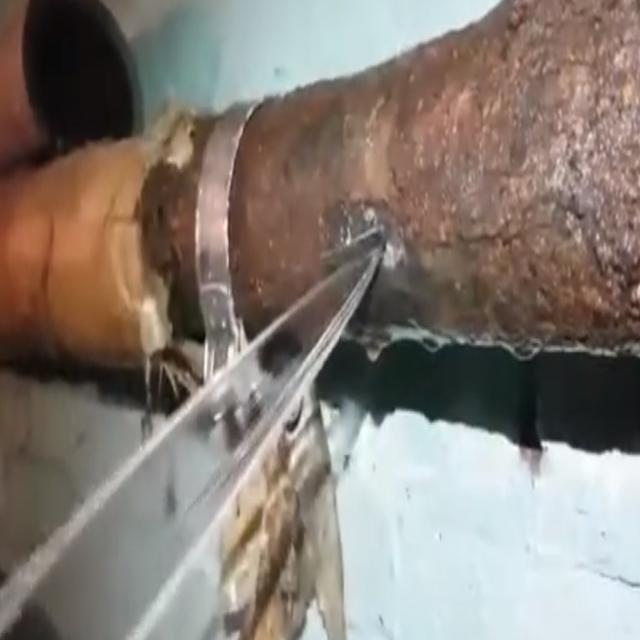leak: (0, 233, 382, 636)
